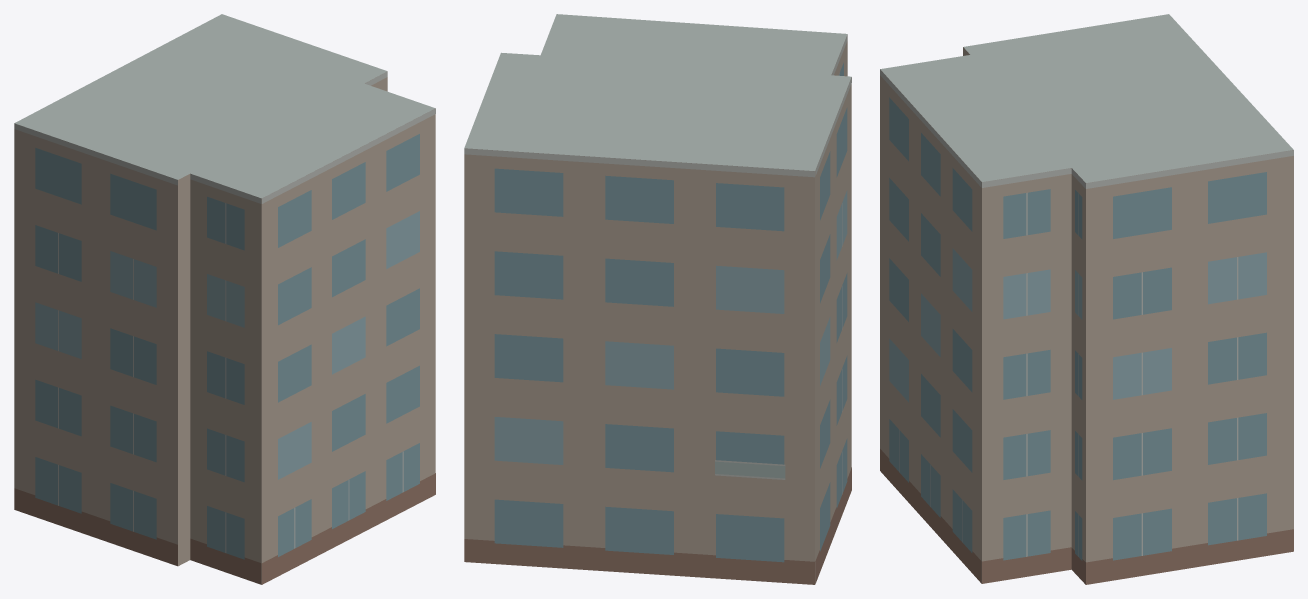
The model's file is survey-upis-32949246.glb.
3 renders of one model, left to right at view 1: azimuth 30°, elevation 25°; view 2: azimuth 150°, elevation 25°; view 3: azimuth 270°, elevation 25°, orthographic. The views are drawn at different scales.
Visible parts, largest first — view 1: survey-upis-32949246.tmp; view 2: survey-upis-32949246.tmp; view 3: survey-upis-32949246.tmp.
Boxes of the visible parts, x1,y1,x2,y2 form: survey-upis-32949246.tmp: (14,14,435,584); survey-upis-32949246.tmp: (464,14,851,584); survey-upis-32949246.tmp: (880,14,1293,584).
Size of the model in its own units: 14.91 by 16.5 by 15.41.
